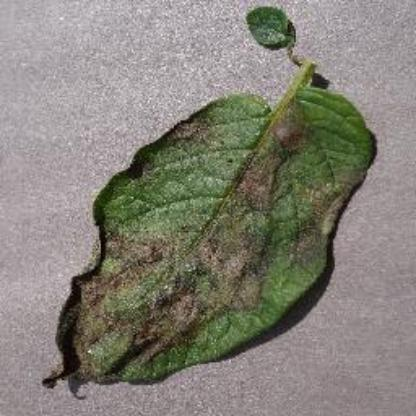Late-Blight: (35, 5, 380, 408)
